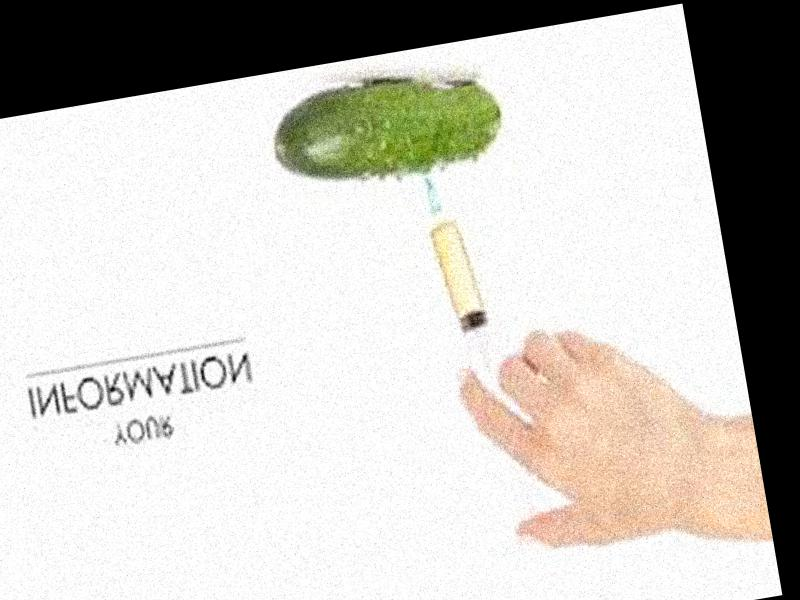Cucumber: (267, 66, 511, 197)
